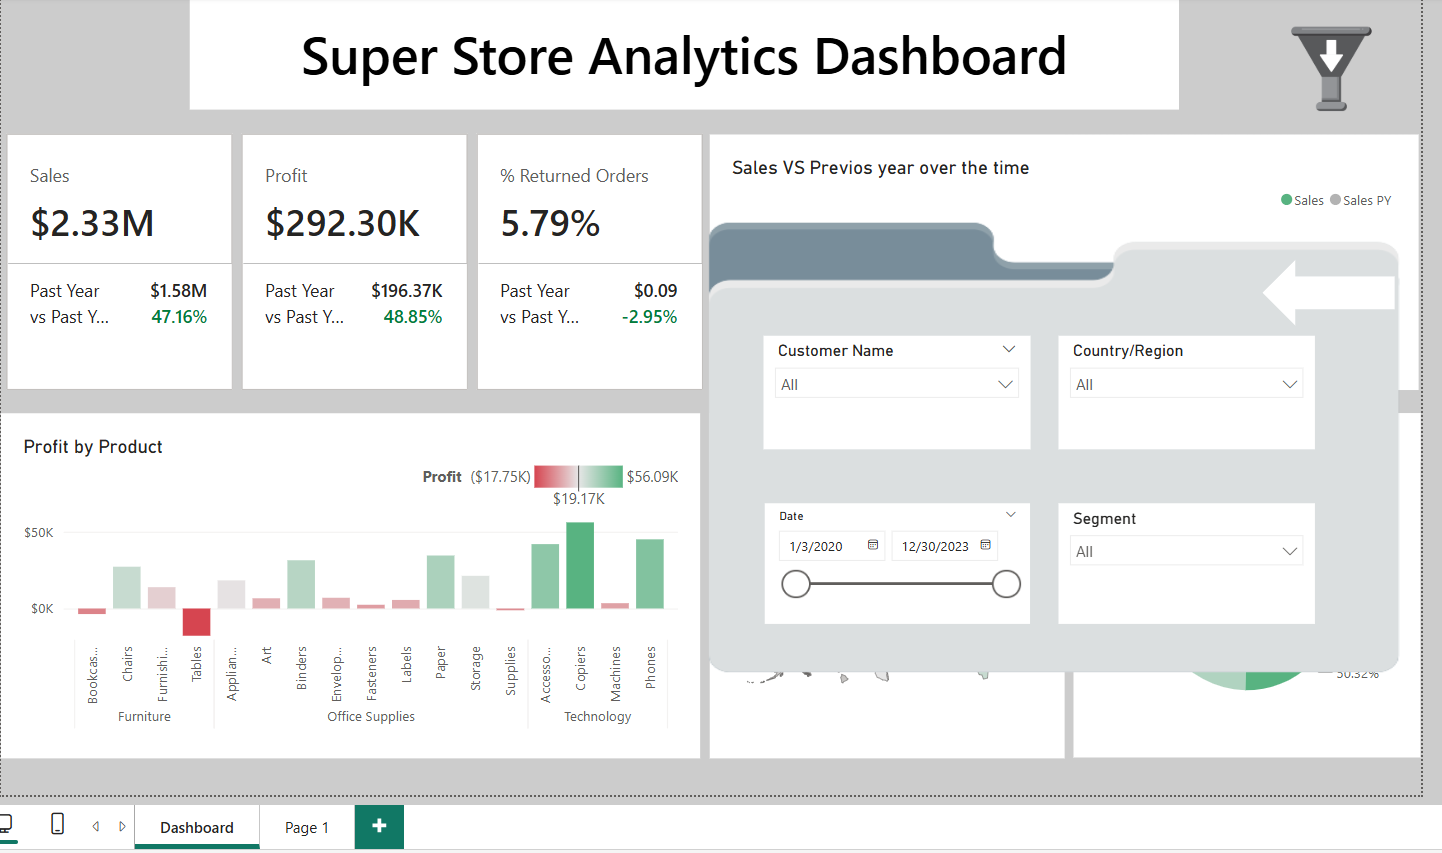

This screenshot's page, from the dashboard's own definition file:
{"tool":"powerbi","page":{"name":"Page 1","canvas":[1280,720],"ordinal":0},"visuals":[{"type":"cardVisual","fields":{"Data":["Key Measures.Sales","Key Measures.Profit","Key Measures.% Returned Orders"]},"box":[0,118.2,639.4,241.3],"z":0},{"type":"shape","box":[192.8,0,891.9,102],"z":1000},{"type":"lineChart","title":"Sales VS Previos year over the time","fields":{"Category":["Date Table.Start of month"],"Y":["Key Measures.Sales","Key Measures.Sales PY"]},"box":[639.4,118.2,639.4,241.3],"z":2000},{"type":"columnChart","title":"Profit by Product","fields":{"Y":["Key Measures.Profit"],"Category":["Orders.Category","Orders.Sub-Category"]},"box":[0,375.7,639.4,311],"z":3000},{"type":"filledMap","title":"Profit by State","fields":{"Category":["Orders.State/Province"]},"box":[648.3,375.9,310.3,310.3],"z":4000},{"type":"donutChart","title":"Sales by Segment","fields":{"Y":["Key Measures.Sales"],"Category":["Orders.Segment"]},"box":[967.4,375.9,312.8,310.3],"z":4001}]}

Visuals, with their boxes on the page's 1280x720 design canvas (x1, y1, x2, y2). These are canvas units, not pixel positions in the 1442x853 screenshot, which may show the page scaled, cropped or inside an application window:
cardVisual - Key Measures.Sales x Key Measures.Profit: [x1=0, y1=118, x2=639, y2=360]
shape: [x1=193, y1=0, x2=1085, y2=102]
"Sales VS Previos year over the time" lineChart: [x1=639, y1=118, x2=1279, y2=360]
"Profit by Product" columnChart: [x1=0, y1=376, x2=639, y2=687]
"Profit by State" filledMap: [x1=648, y1=376, x2=959, y2=686]
"Sales by Segment" donutChart: [x1=967, y1=376, x2=1280, y2=686]
